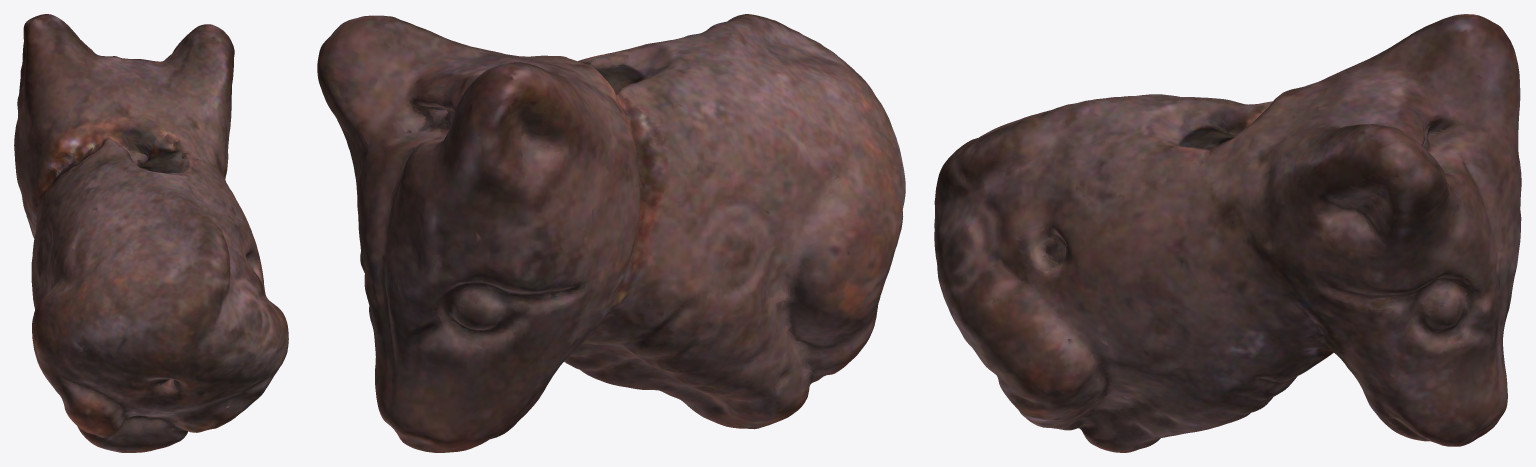
The model's file is Perrito.fbx.
The picture shows the model from 3 angles, left to right: view 1: azimuth 30°, elevation 25°; view 2: azimuth 150°, elevation 25°; view 3: azimuth 270°, elevation 25°; orthographic projection. The views are drawn at different scales.
Parts seen in each view (by area): view 1: perrito; view 2: perrito; view 3: perrito.
Boxes of the visible parts, bbox=[...] form: perrito: bbox=[14, 14, 288, 452]; perrito: bbox=[317, 14, 905, 452]; perrito: bbox=[934, 14, 1521, 452].
Size of the model in its own units: 35.86 by 46.43 by 39.12.
Materials: 1 (1 with a texture image).
